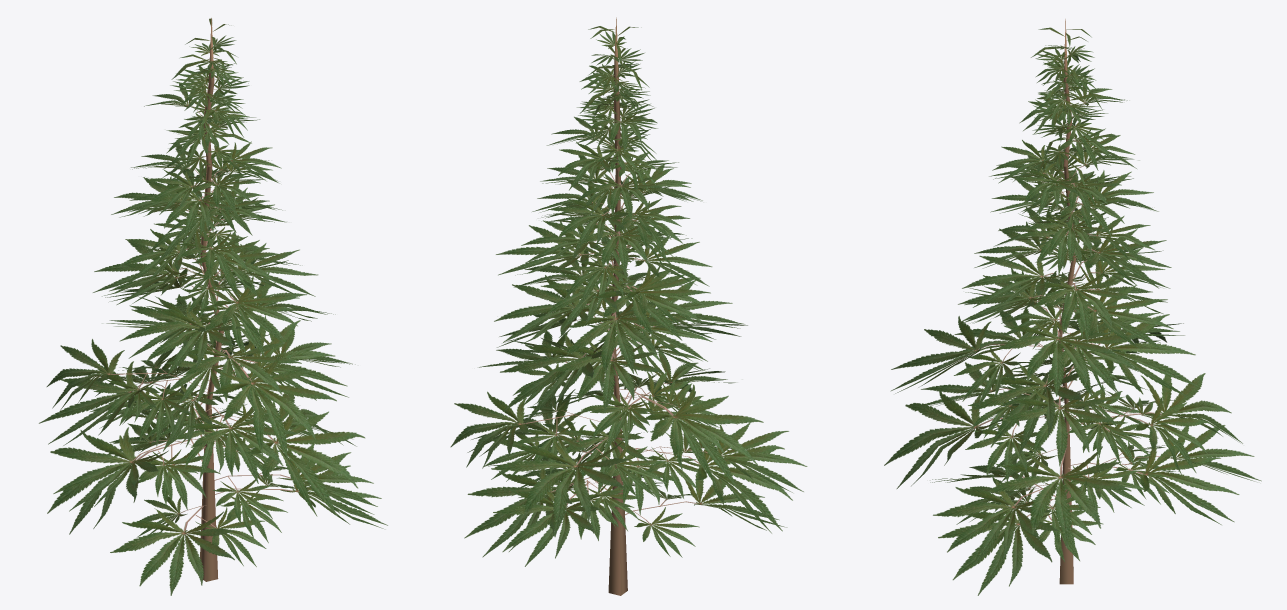
The model's file is cannabis_plant.glb.
The picture shows the model from 3 angles, left to right: view 1: azimuth 30°, elevation 25°; view 2: azimuth 150°, elevation 25°; view 3: azimuth 270°, elevation 25°; orthographic projection. The views are drawn at different scales.
Parts seen in each view (by area): view 1: Cannabis Plant; view 2: Cannabis Plant; view 3: Cannabis Plant.
Boxes of the visible parts, <box> form: Cannabis Plant: <box>39,18,387,595</box>; Cannabis Plant: <box>450,17,807,595</box>; Cannabis Plant: <box>884,19,1261,595</box>.
Size of the model in its own units: 1.22 by 1.88 by 1.24.
Materials: 1 (1 with a texture image).
